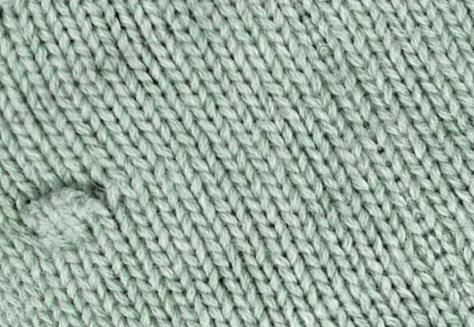knot: (16, 188, 109, 243)
